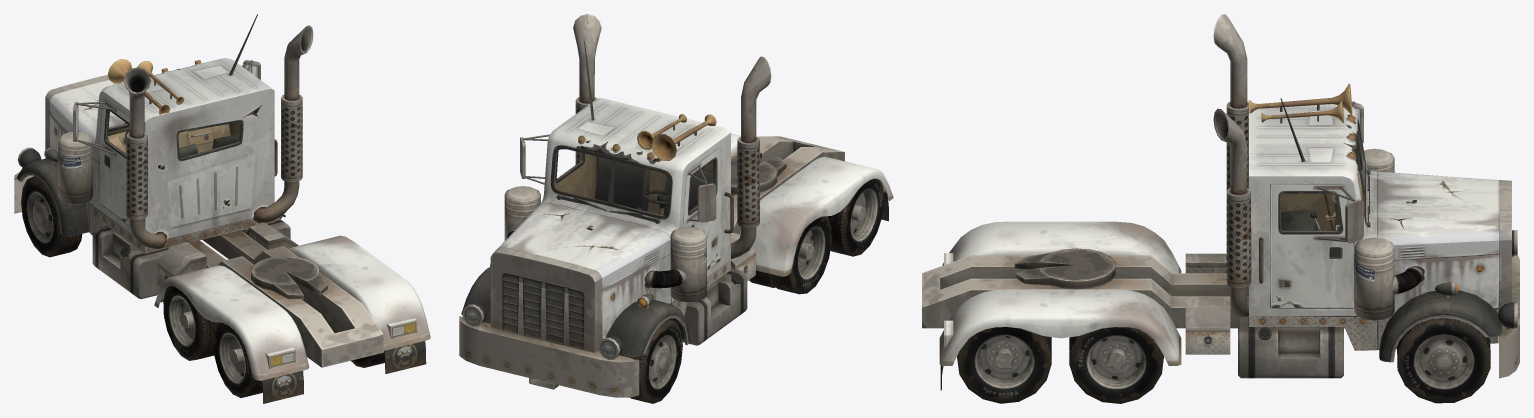
File: fortnite_semi_truck.glb
The picture shows the model from 3 angles, left to right: view 1: azimuth 30°, elevation 25°; view 2: azimuth 150°, elevation 25°; view 3: azimuth 270°, elevation 25°; orthographic projection. The views are drawn at different scales.
Parts seen in each view (by area): view 1: Object_2; view 2: Object_2; view 3: Object_2.
Boxes of the visible parts, left/top/right/bottom form: Object_2: left=14, top=14, right=430, bottom=403; Object_2: left=459, top=14, right=893, bottom=403; Object_2: left=922, top=14, right=1519, bottom=403.
Bounding box in the file's own units: 9.82 × 12.79 × 23.44.
1 material, 1 textured.
